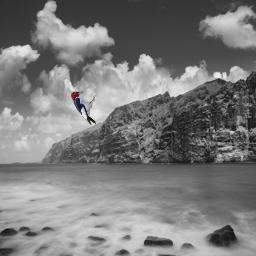Woodpecker: (70, 90, 97, 125)
